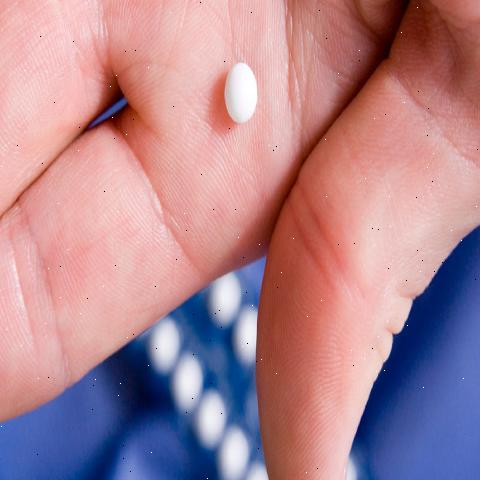Pill: (204, 54, 263, 128)
